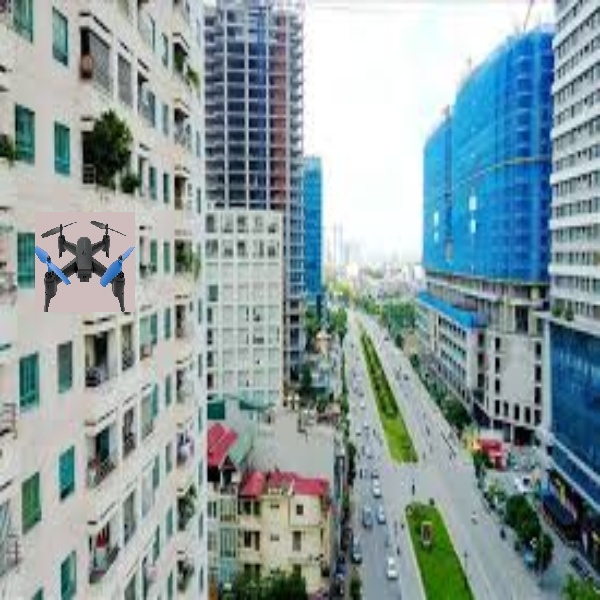drone: (40, 213, 137, 312)
